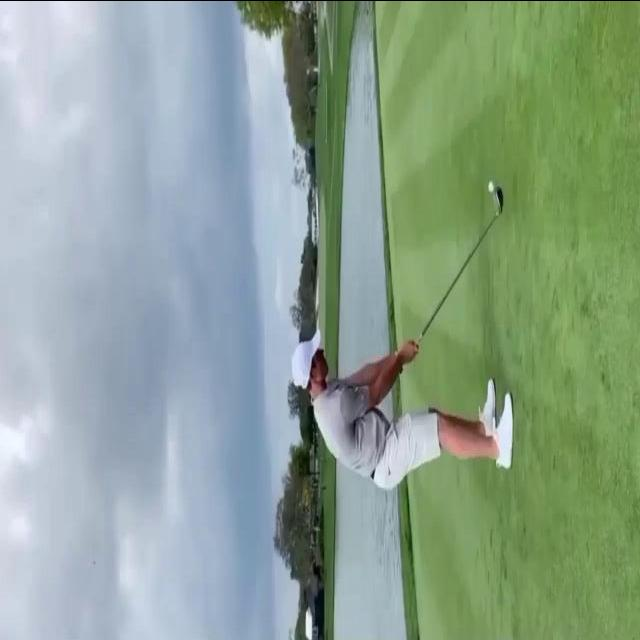golf ball: (486, 179, 494, 189)
golf club-handle: (413, 178, 506, 346)
golf club-head: (494, 188, 504, 213)
